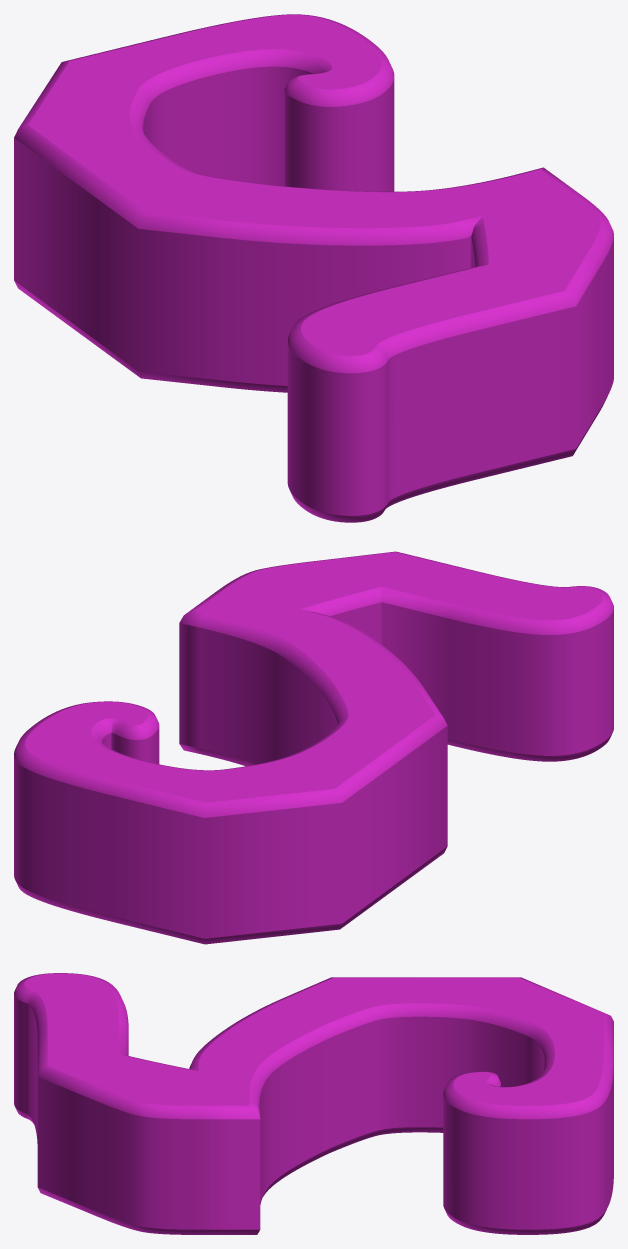
File: Number_5.fbx
The picture shows the model from 3 angles, top to bottom: view 1: azimuth 30°, elevation 25°; view 2: azimuth 150°, elevation 25°; view 3: azimuth 270°, elevation 25°; orthographic projection. The views are drawn at different scales.
Visible parts, largest first — view 1: Number_5; view 2: Number_5; view 3: Number_5.
Part boxes in pixels (left/top/right/bottom): Number_5: left=14, top=14, right=613, bottom=522; Number_5: left=14, top=551, right=613, bottom=944; Number_5: left=14, top=973, right=613, bottom=1234.
Bounding box in the file's own units: 0.3287 × 0.14 × 0.591.
